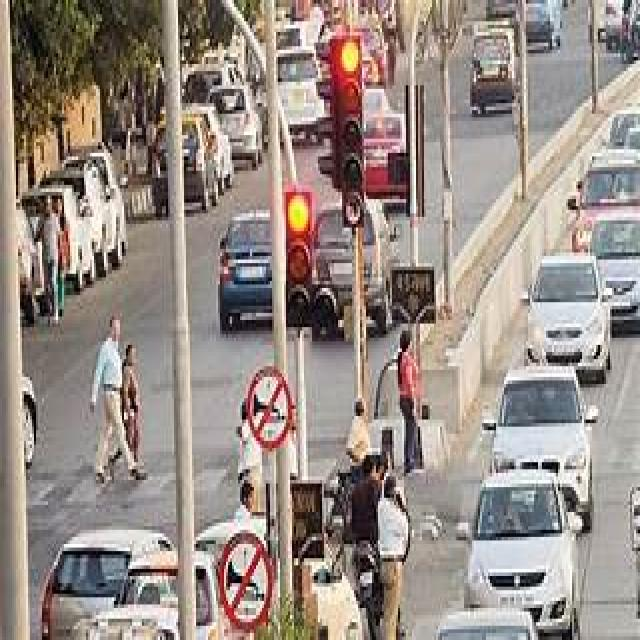Car: (438, 151, 640, 637), (41, 531, 178, 640), (196, 524, 239, 639)
